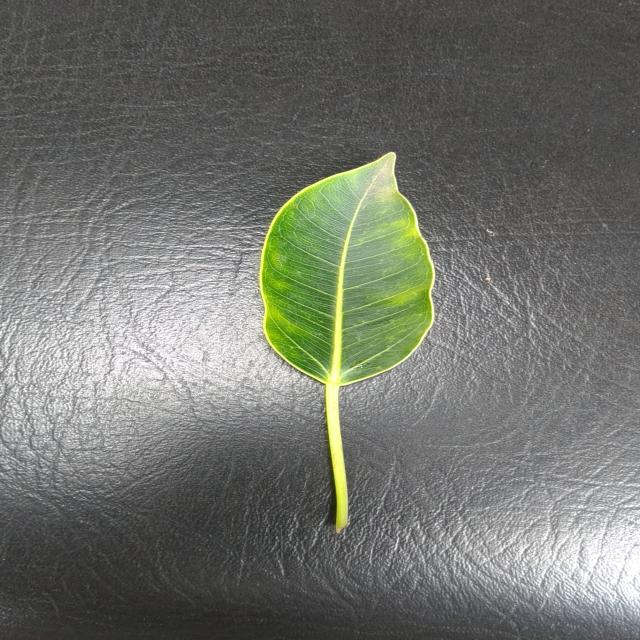camphor: (260, 152, 433, 530)
